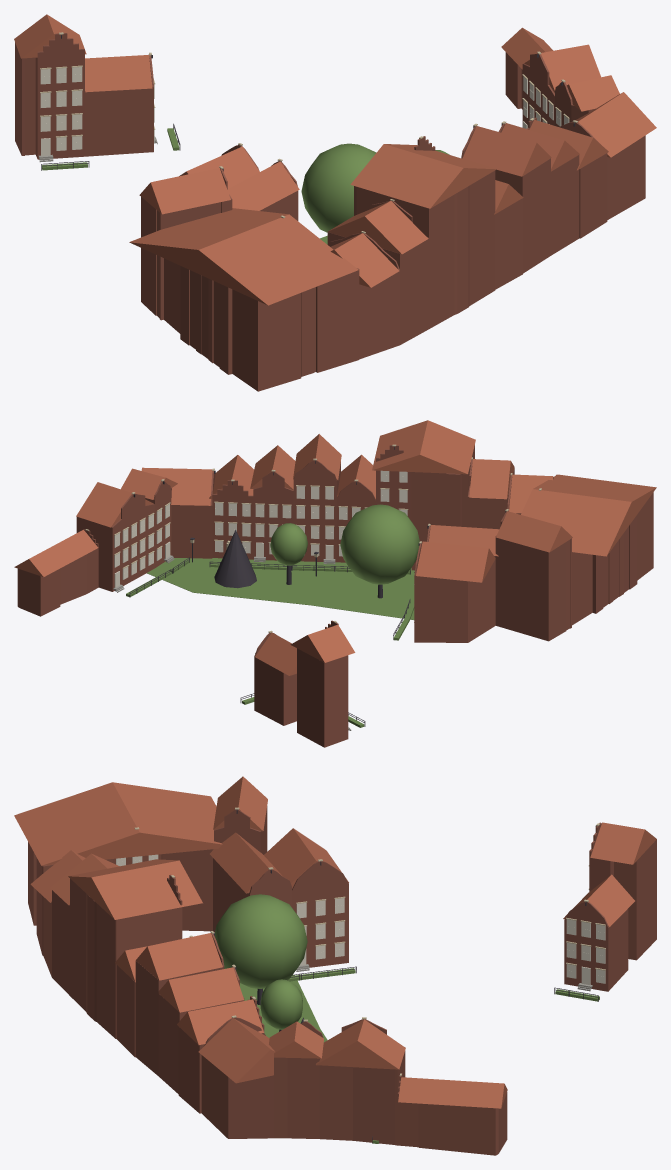
File: begijnhof.glb
The picture shows the model from 3 angles, top to bottom: view 1: azimuth 30°, elevation 25°; view 2: azimuth 150°, elevation 25°; view 3: azimuth 270°, elevation 25°; orthographic projection. The views are drawn at different scales.
Visible parts, largest first — view 1: begijnhof; view 2: begijnhof; view 3: begijnhof.
Boxes of the visible parts, x1,y1,x2,y2 form: begijnhof: [14, 14, 656, 391]; begijnhof: [14, 420, 656, 747]; begijnhof: [14, 776, 656, 1155].
Bounding box in the file's own units: 74.29 × 18.1 × 74.61.
